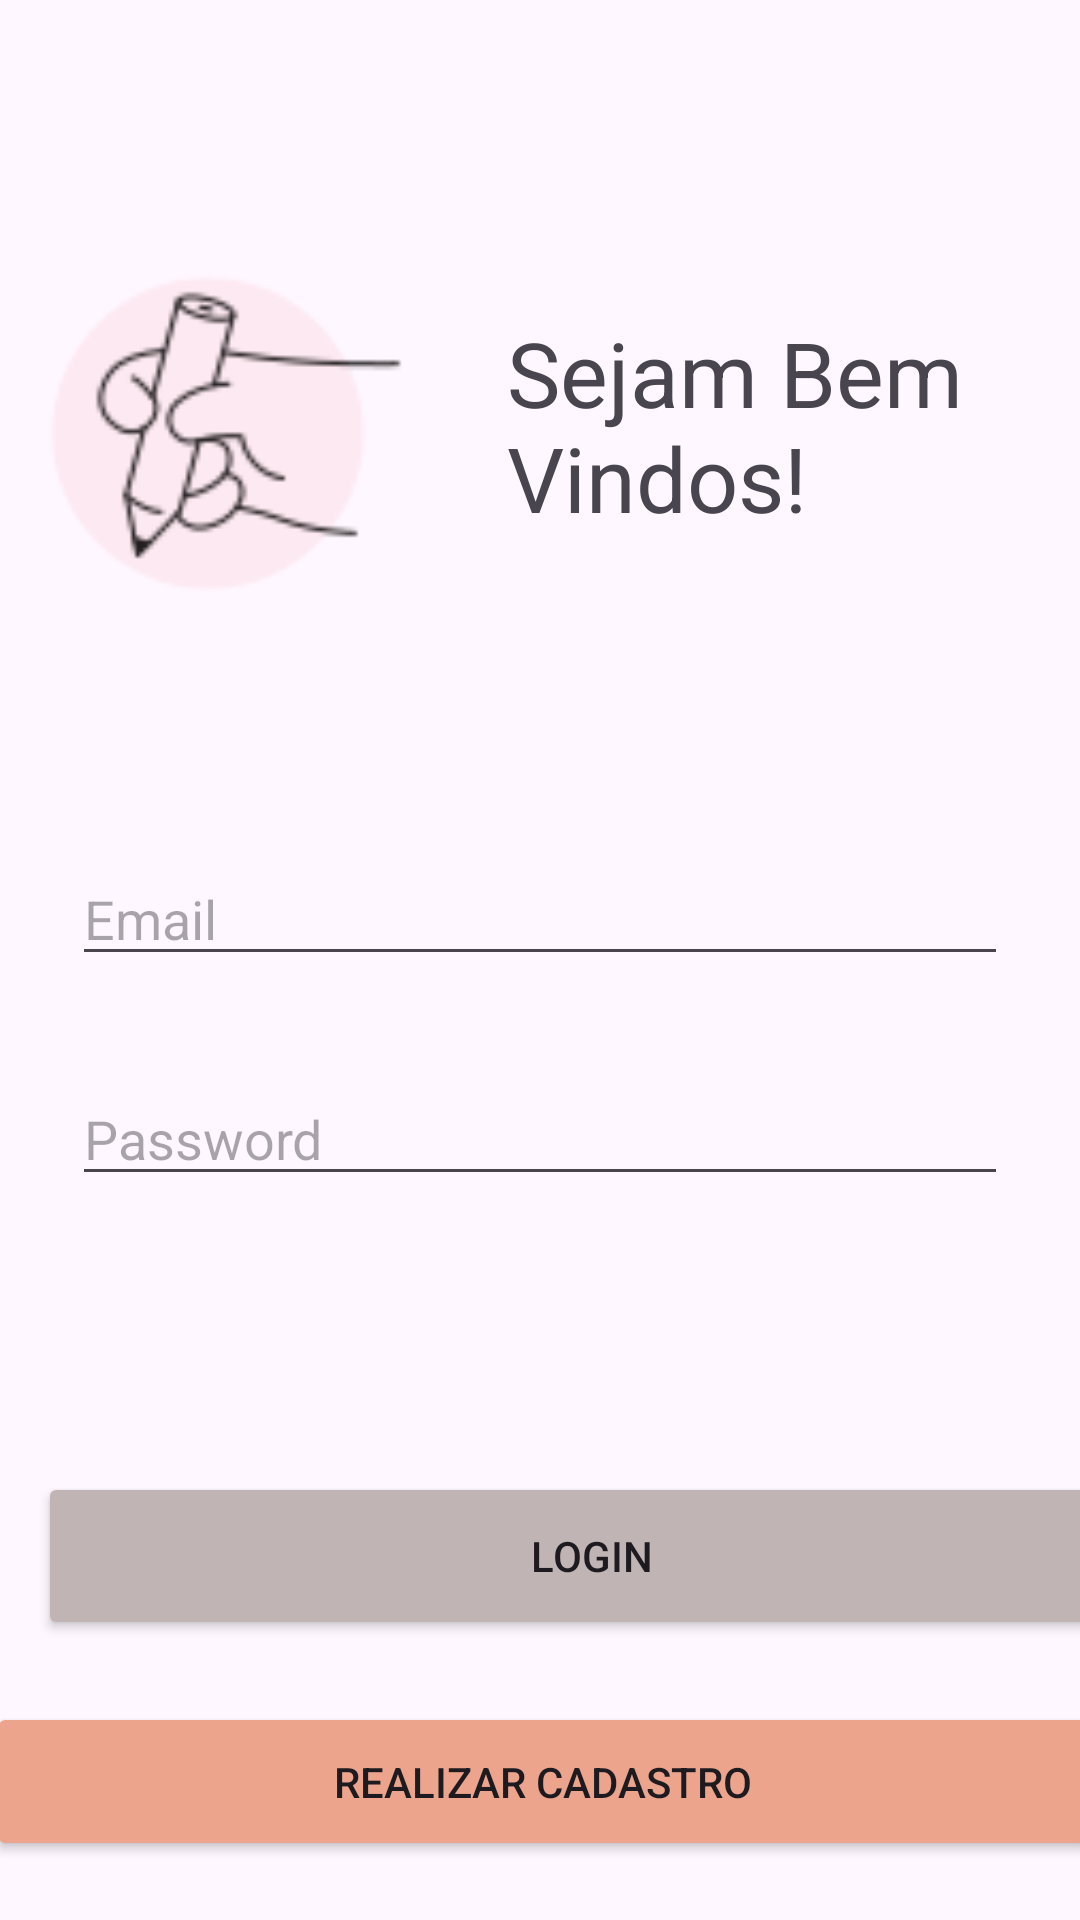

Icon bounding boxes for this 1080w x 1920h phone screenshot, format (x1, y1, x2, y2):
hand: (53, 279, 402, 588)
